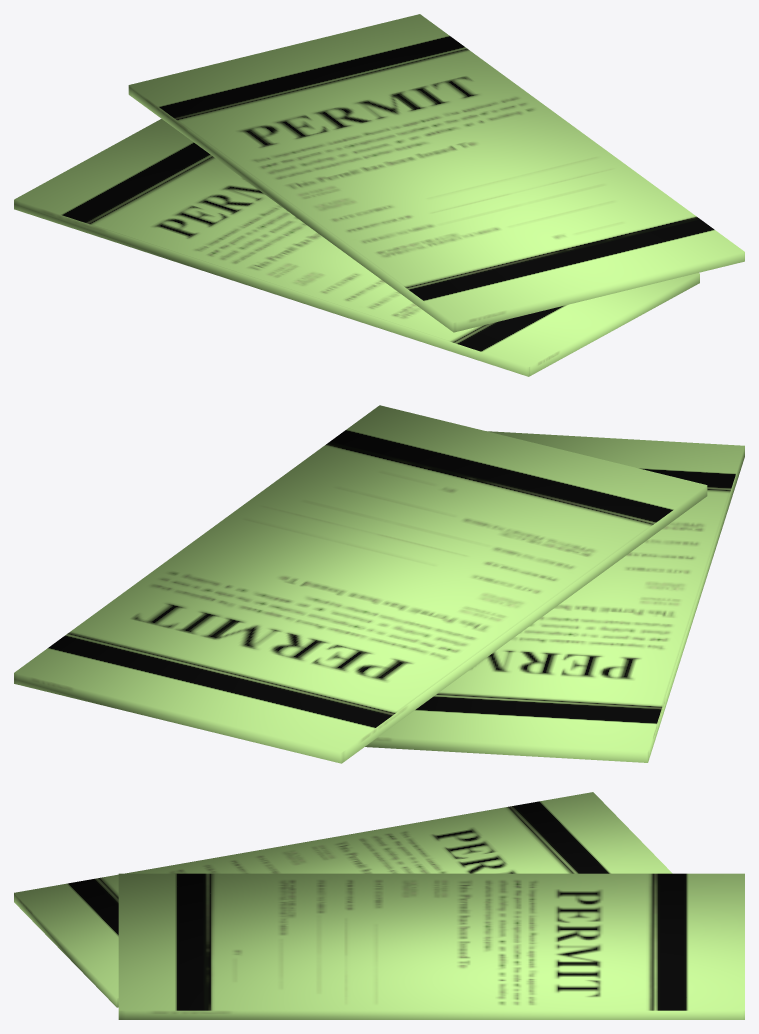
File: GN84Permit.fbx
3 renders of one model, top to bottom at view 1: azimuth 30°, elevation 25°; view 2: azimuth 150°, elevation 25°; view 3: azimuth 270°, elevation 25°, orthographic. The views are drawn at different scales.
Parts seen in each view (by area): view 1: SafehouseExpansionPermit; view 2: SafehouseExpansionPermit; view 3: SafehouseExpansionPermit.
Boxes of the visible parts, x1=… form: SafehouseExpansionPermit: x1=14, y1=14, x2=744, y2=376; SafehouseExpansionPermit: x1=14, y1=405, x2=744, y2=763; SafehouseExpansionPermit: x1=14, y1=792, x2=744, y2=1019.
Bounding box in the file's own units: 0.2664 × 0.0102 × 0.3609.
